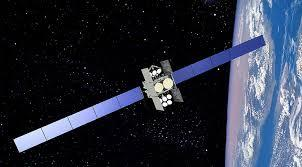antenna: (141, 67, 164, 112), (163, 77, 174, 89), (153, 82, 164, 93), (156, 68, 162, 75), (162, 101, 168, 107), (166, 93, 172, 99), (152, 69, 157, 76), (167, 100, 173, 105), (162, 97, 168, 102)
body: (143, 73, 181, 100)
solar: (11, 84, 148, 155), (170, 33, 268, 86)
